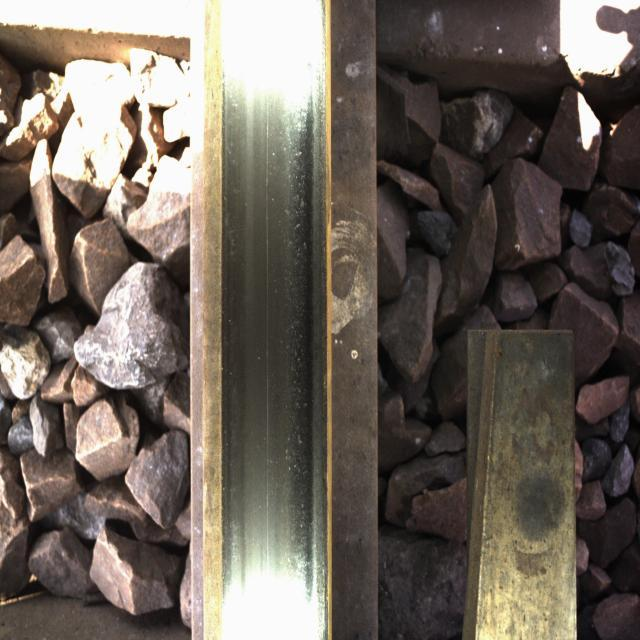normal: (232, 34, 318, 598)
